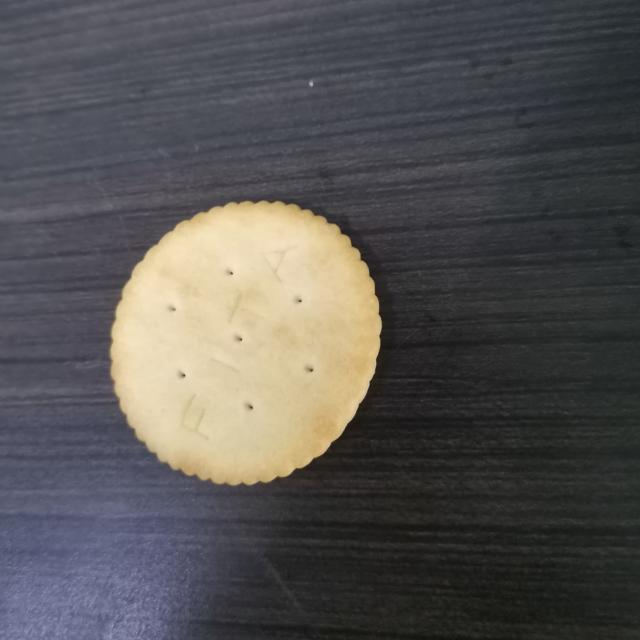Intact: (96, 192, 398, 494)
